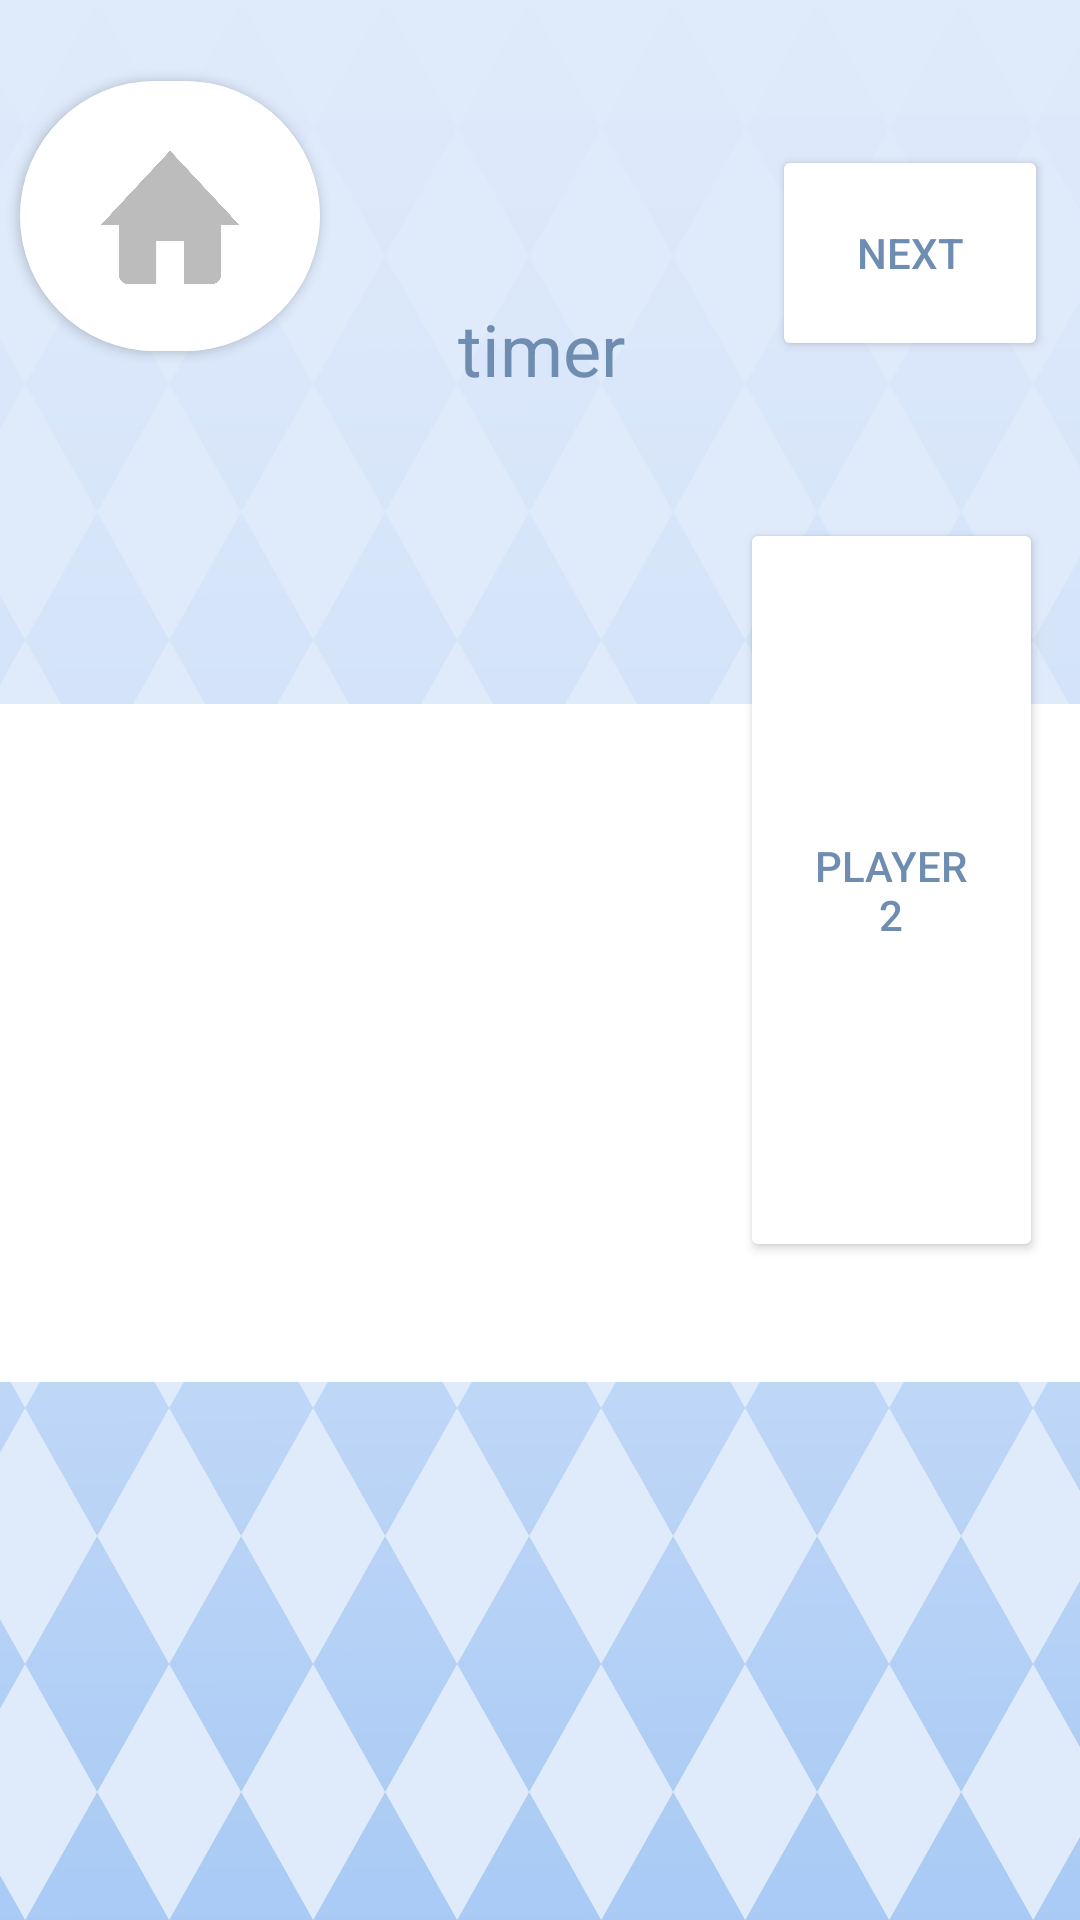

Named icons in this screenshot (1080x1920) and their centers, (x=x, y=y):
home button: (x=170, y=216)
